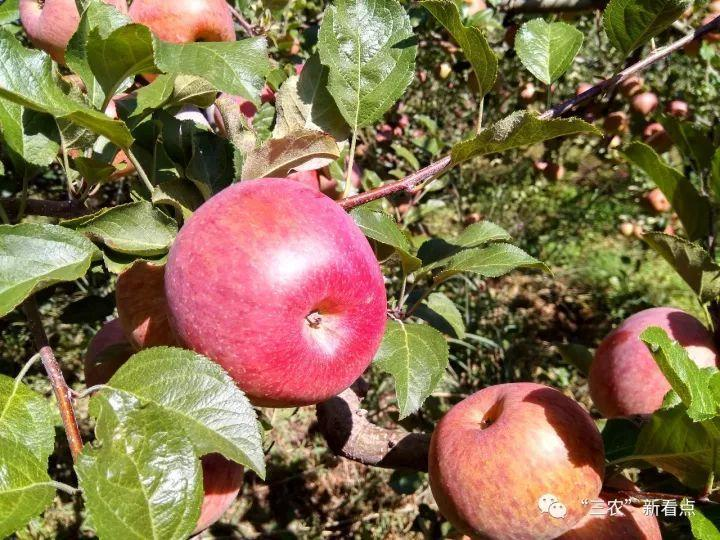apple: (162, 177, 385, 401), (428, 380, 612, 536), (585, 306, 715, 420), (22, 1, 126, 64), (131, 2, 237, 42)
